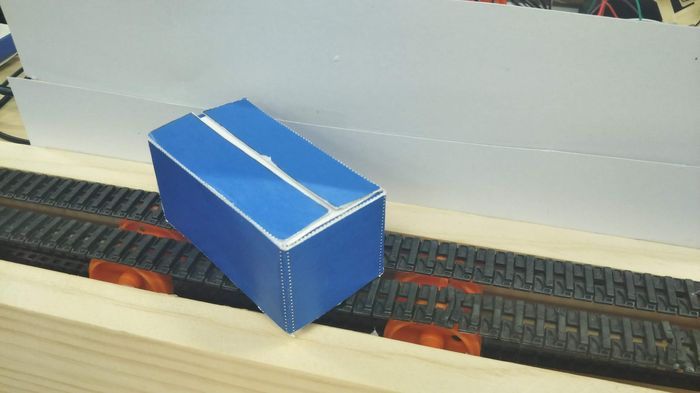box3: (145, 94, 387, 336)
